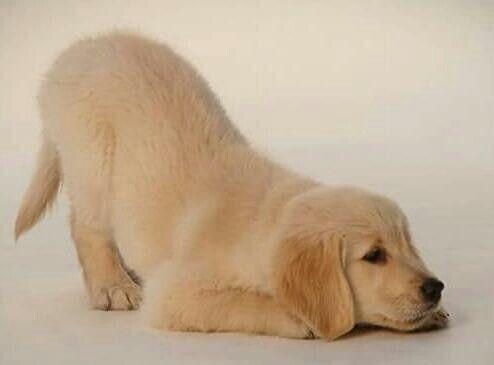puppy-dog: (13, 28, 451, 341)
